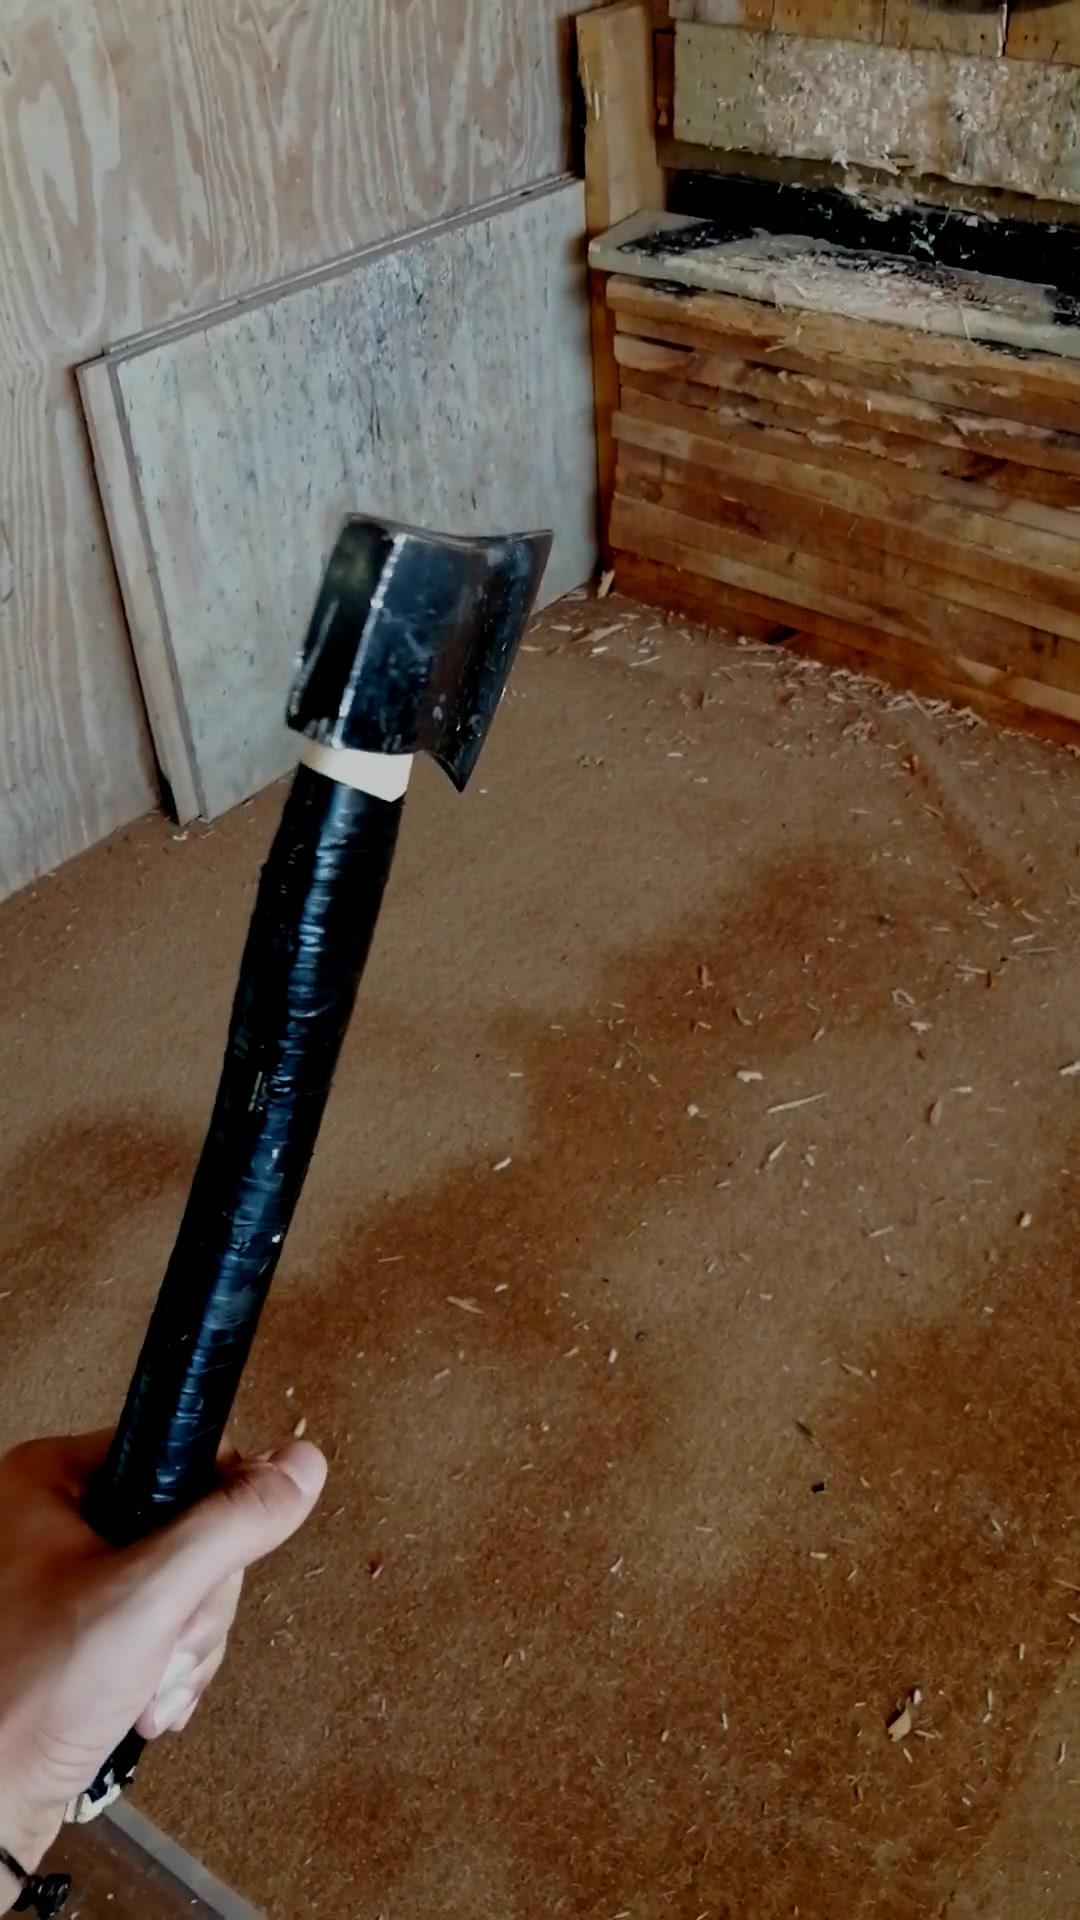Hand Axe: (273, 505, 565, 802)
